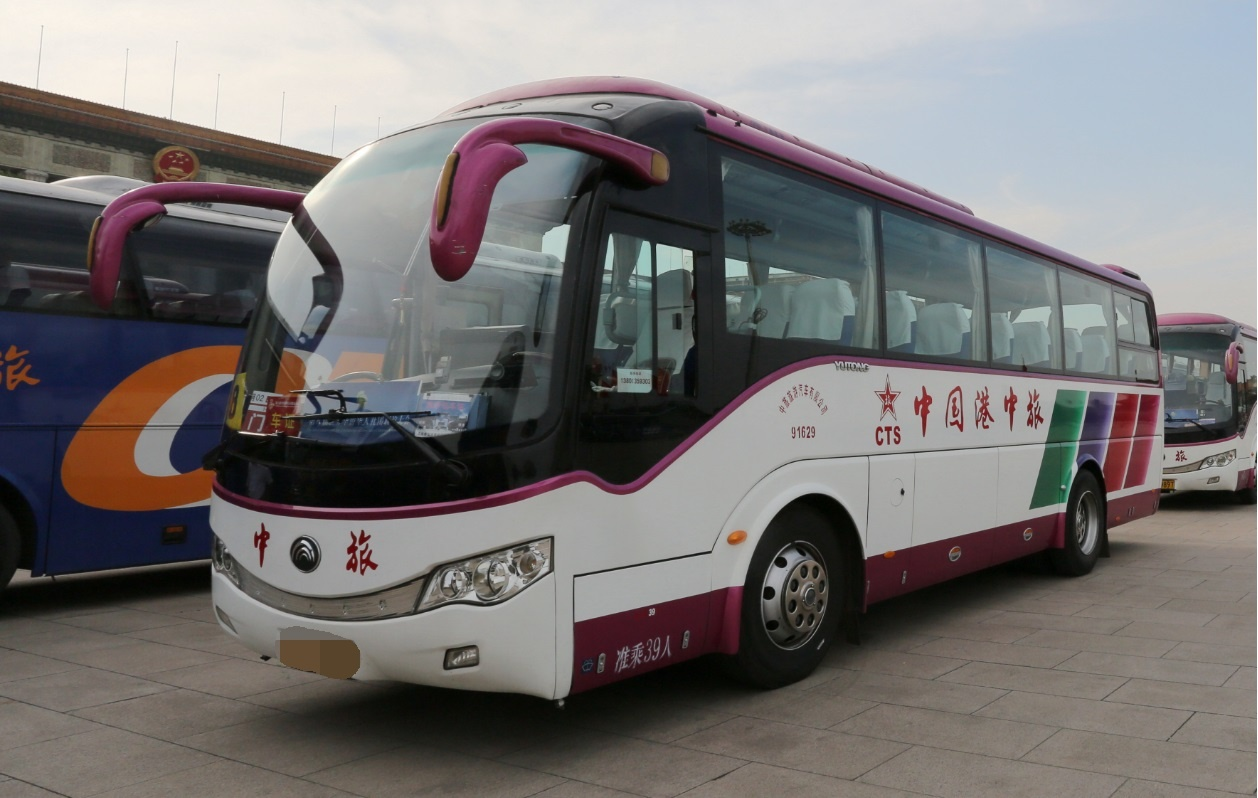bus: (182, 77, 1179, 723)
